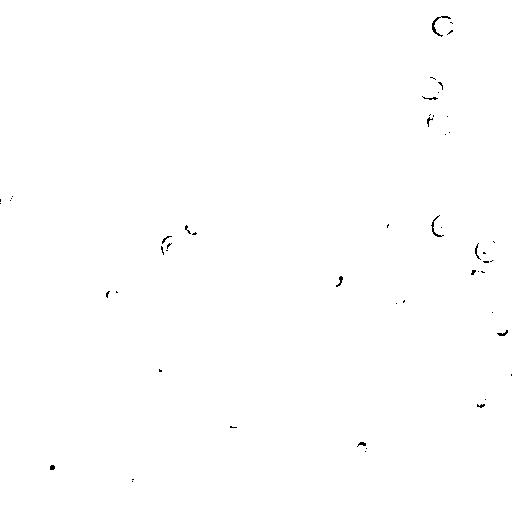micro-algae: (19, 25, 127, 127), (149, 1, 275, 63), (2, 197, 63, 322), (220, 439, 305, 510), (159, 351, 232, 422), (73, 247, 131, 303), (426, 107, 457, 138), (110, 438, 139, 470), (142, 239, 172, 267), (383, 282, 413, 310), (128, 0, 158, 26), (17, 411, 49, 435), (161, 234, 188, 262), (473, 237, 501, 264), (251, 22, 279, 48), (417, 73, 445, 99), (382, 468, 411, 493), (57, 429, 83, 455), (209, 118, 234, 145), (149, 62, 175, 87), (40, 453, 65, 479), (430, 211, 453, 239), (61, 256, 90, 277), (85, 273, 111, 296), (177, 111, 201, 135), (465, 267, 491, 289), (323, 266, 347, 289), (432, 14, 456, 36), (169, 281, 191, 305), (321, 500, 362, 512), (249, 430, 269, 454), (222, 405, 242, 427), (384, 386, 407, 405), (90, 499, 121, 512), (151, 363, 171, 381), (1, 182, 16, 205), (184, 217, 203, 235), (477, 298, 495, 316), (387, 217, 403, 237), (471, 391, 489, 408), (105, 287, 123, 303), (122, 470, 137, 489), (403, 224, 419, 241), (492, 320, 509, 336), (47, 108, 65, 123), (353, 439, 368, 455), (501, 362, 511, 382), (319, 432, 332, 447), (391, 0, 411, 6)
